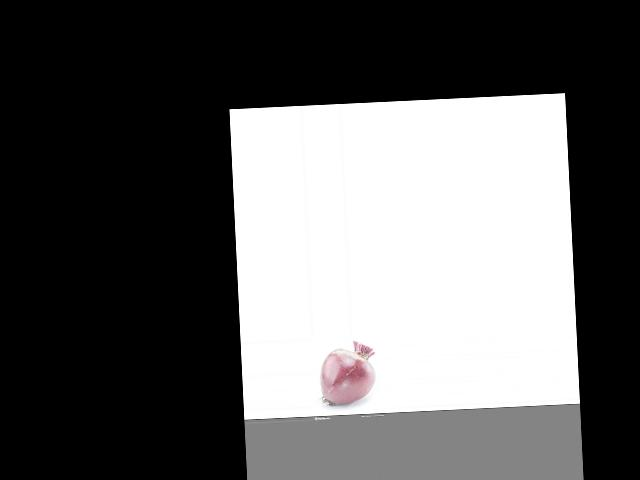beet: (318, 340, 377, 405)
